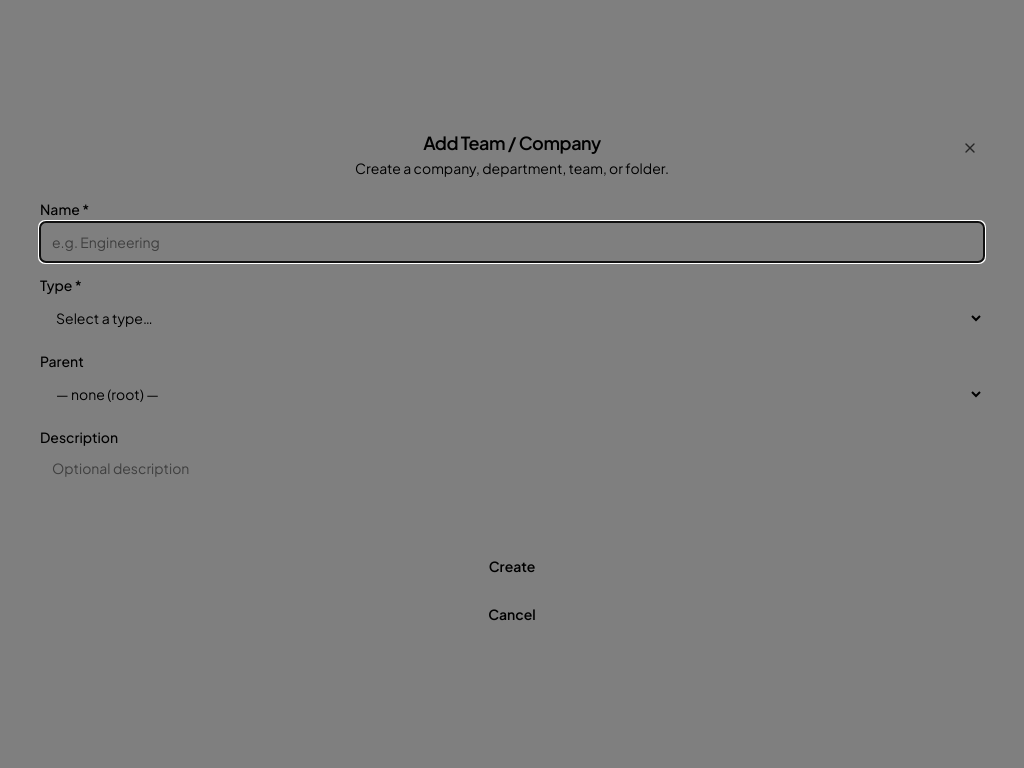
Test: AddTeamModal › responsive validation collects every invalid field into linked summary and inline errors
The image size is (1024, 768).
Click the button "Create": click(512, 566) [40, 546, 984, 586]
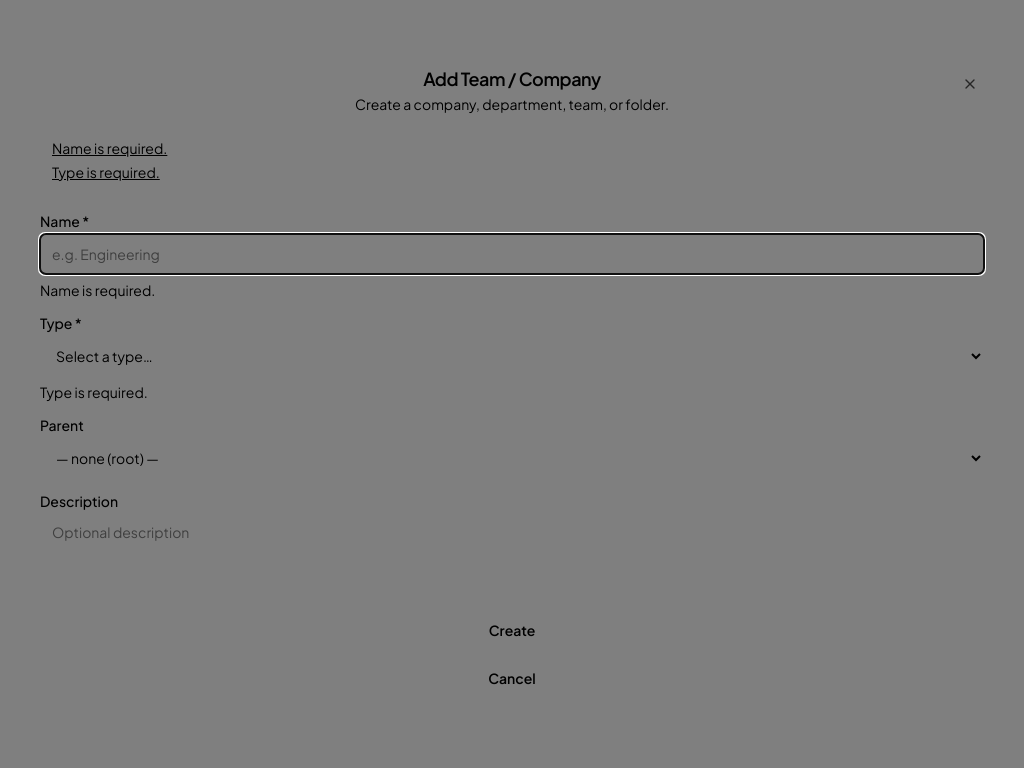
Now the message named "Add team error summary" shows "Name is required.", box [52, 139, 167, 157]
Now the message named "Add team error summary" shows "Type is required.", box [52, 163, 160, 181]
Now the number of links "Name is required." is 2, box [52, 139, 167, 157]; [40, 281, 155, 299]
